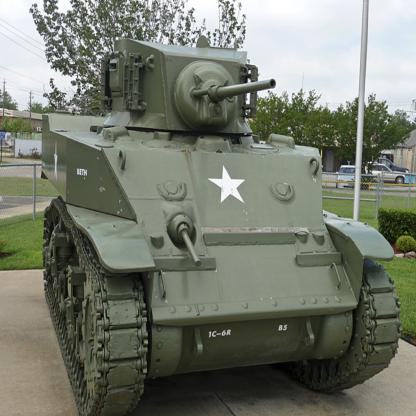Car: (365, 162, 405, 184), (336, 164, 356, 187)
